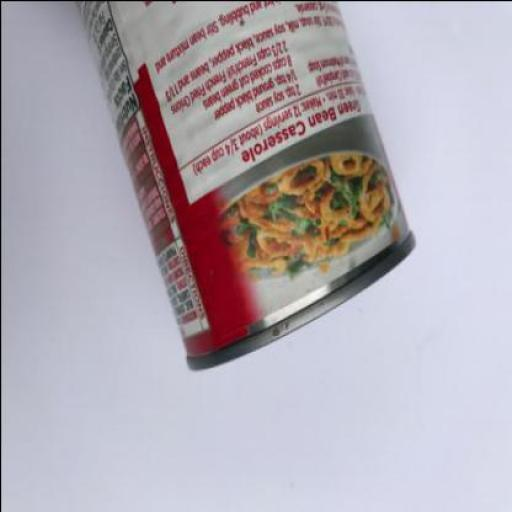metal: (71, 2, 416, 370)
